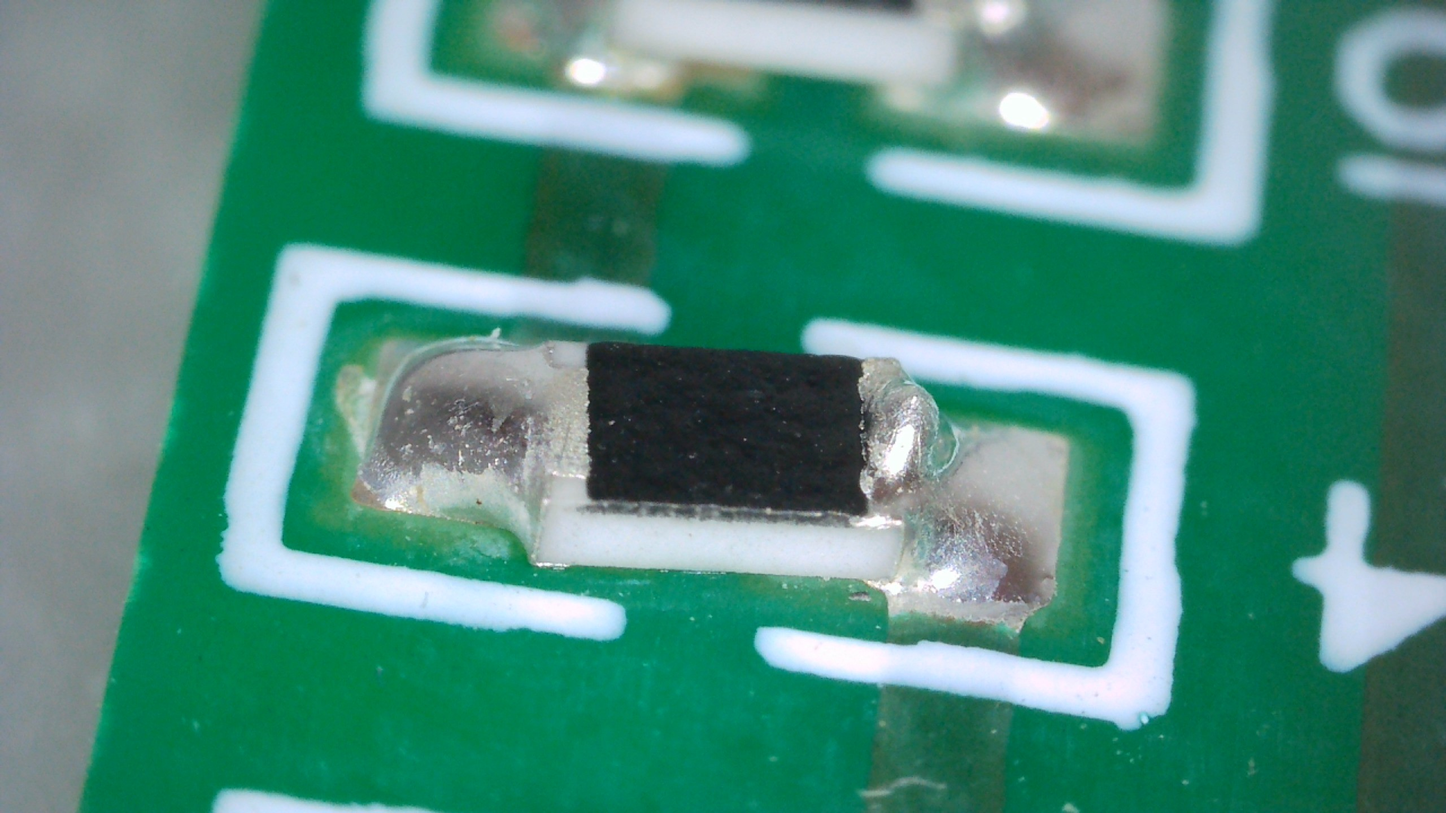NG: (364, 340, 590, 557), (861, 386, 938, 506)
